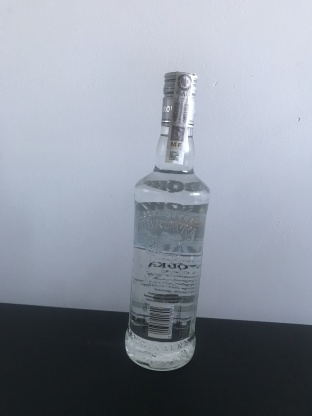nakretka: (158, 67, 200, 131)
